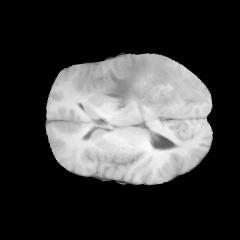glioma: (102, 53, 208, 113)
